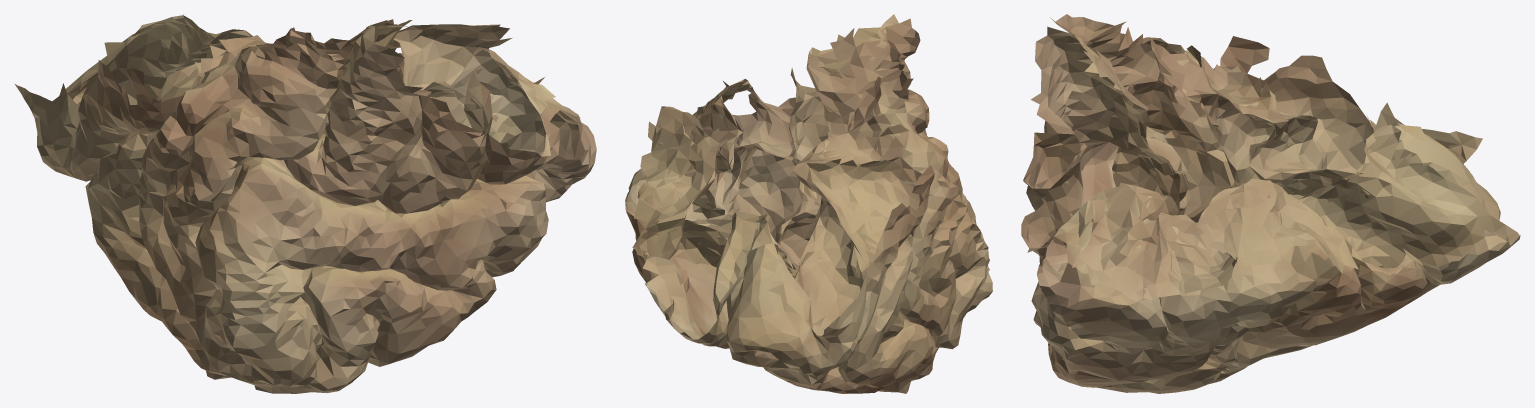
The model's file is L_Occipital_Lobe.obj.
3 views of the same model, side by side, from view 1: azimuth 30°, elevation 25°; view 2: azimuth 150°, elevation 25°; view 3: azimuth 270°, elevation 25° (orthographic). The views are drawn at different scales.
Parts seen in each view (by area): view 1: L_Occipital_Lobe_R_Cortex_textured.004; view 2: L_Occipital_Lobe_R_Cortex_textured.004; view 3: L_Occipital_Lobe_R_Cortex_textured.004.
Boxes of the visible parts, x1,y1,x2,y2 form: L_Occipital_Lobe_R_Cortex_textured.004: [15, 14, 596, 393]; L_Occipital_Lobe_R_Cortex_textured.004: [625, 14, 992, 393]; L_Occipital_Lobe_R_Cortex_textured.004: [1021, 14, 1520, 393].
Size of the model in its own units: 213 by 210 by 254.
